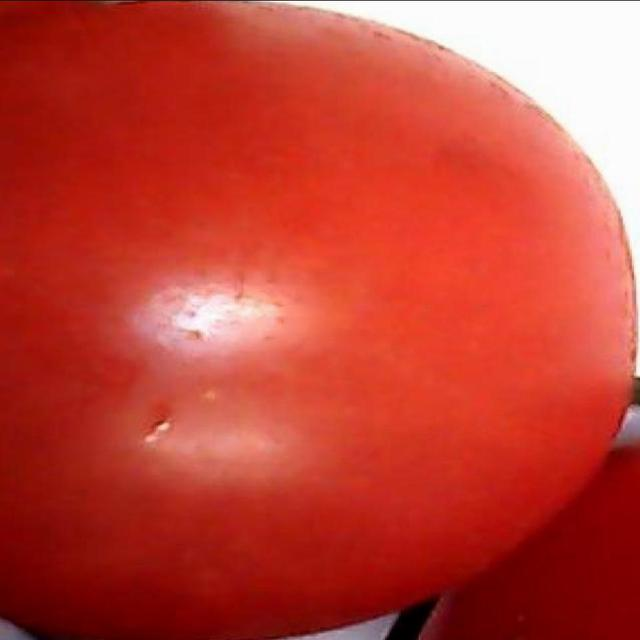Healthy Fruit: (0, 0, 427, 410)
